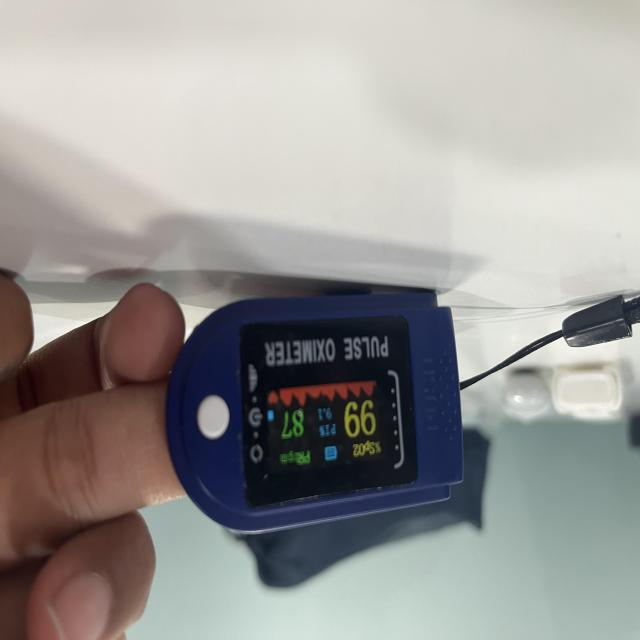spo2: (164, 293, 465, 591)
